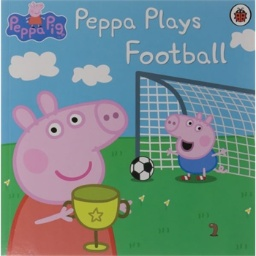Peppa: (7, 90, 129, 256)
